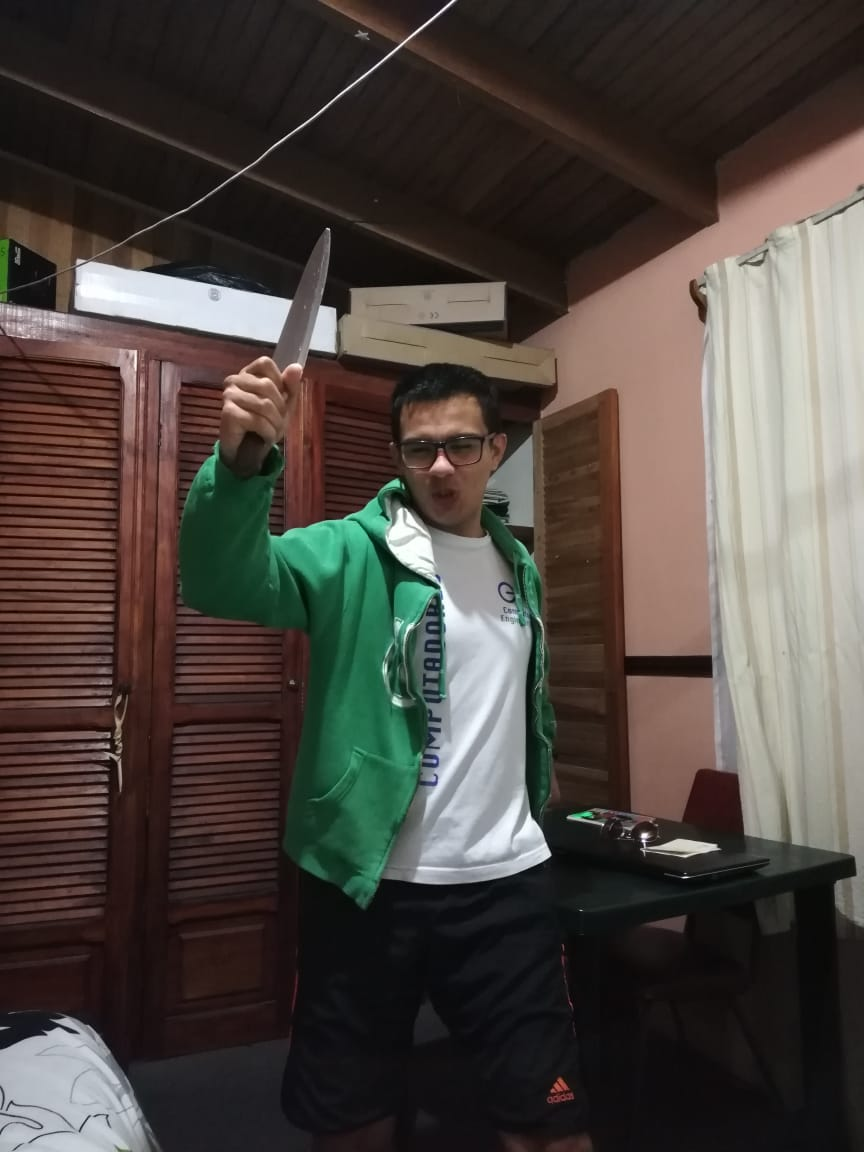knife: (228, 226, 338, 479)
